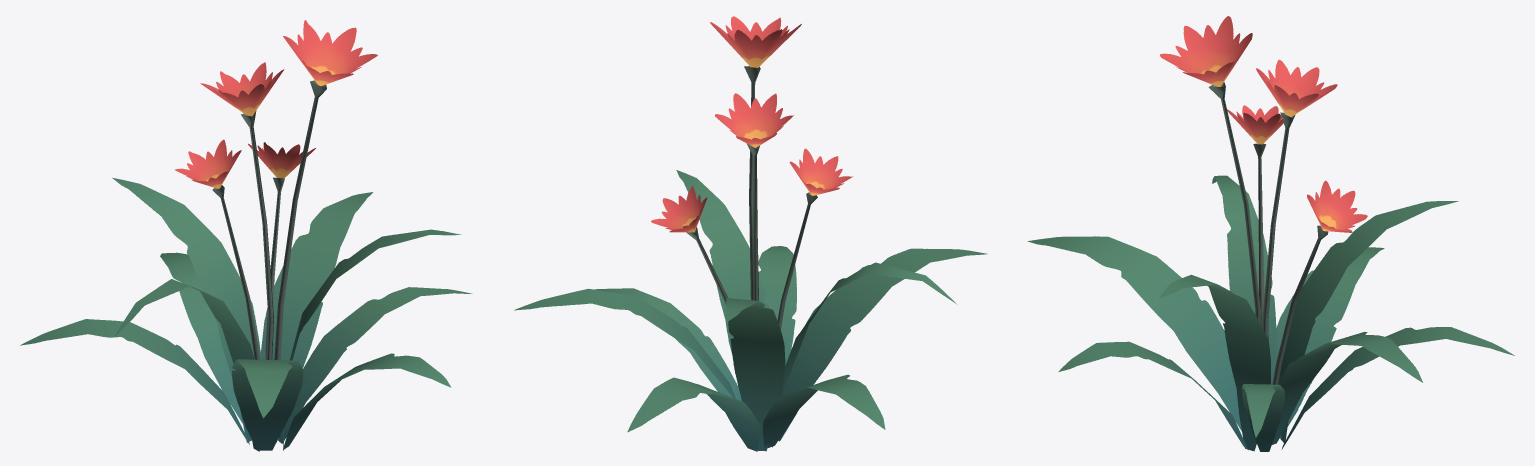
The picture shows the model from 3 angles, left to right: view 1: azimuth 30°, elevation 25°; view 2: azimuth 150°, elevation 25°; view 3: azimuth 270°, elevation 25°; orthographic projection. The views are drawn at different scales.
Parts seen in each view (by area): view 1: submesh_0; view 2: submesh_0; view 3: submesh_0.
Part boxes in pixels (x1,y1,x2,y2): submesh_0: [20, 20, 472, 451]; submesh_0: [514, 16, 987, 451]; submesh_0: [1027, 16, 1514, 451].
Size of the model in its own units: 0.8861 by 0.9108 by 0.9462.
Materials: 1 (1 with a texture image).
